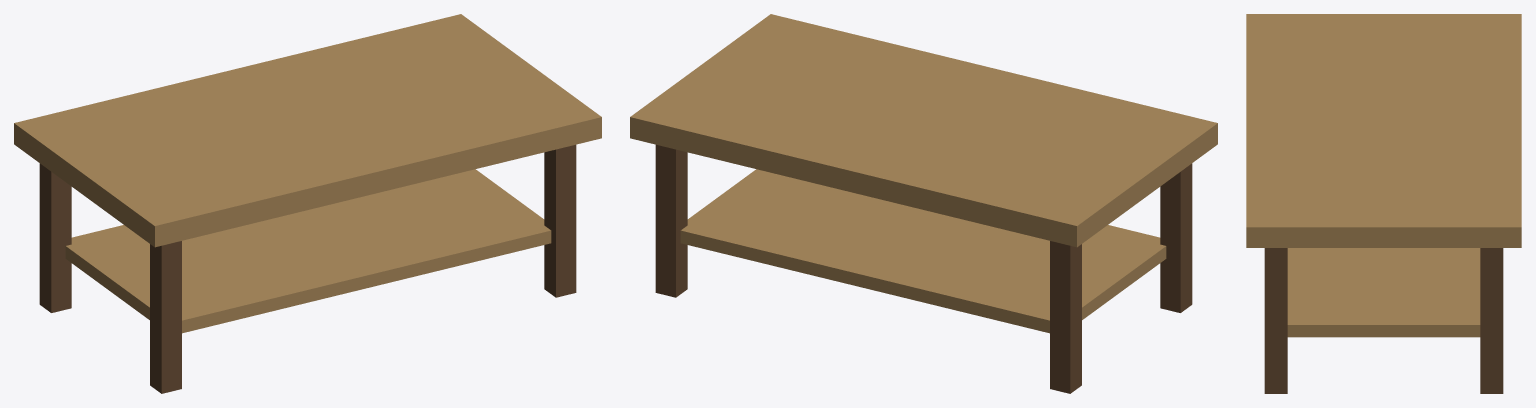
The model's file is coffee_table.glb.
3 renders of one model, left to right at view 1: azimuth 30°, elevation 25°; view 2: azimuth 150°, elevation 25°; view 3: azimuth 270°, elevation 25°, orthographic. The views are drawn at different scales.
Visible parts, largest first — view 1: coffee_table; view 2: coffee_table; view 3: coffee_table.
Part boxes in pixels (<box>): coffee_table: <box>14,14,601,393</box>; coffee_table: <box>630,14,1217,393</box>; coffee_table: <box>1246,14,1521,393</box>.
Size of the model in its own units: 1.1 by 0.42 by 0.6.
